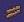wood: (1, 1, 24, 22)
